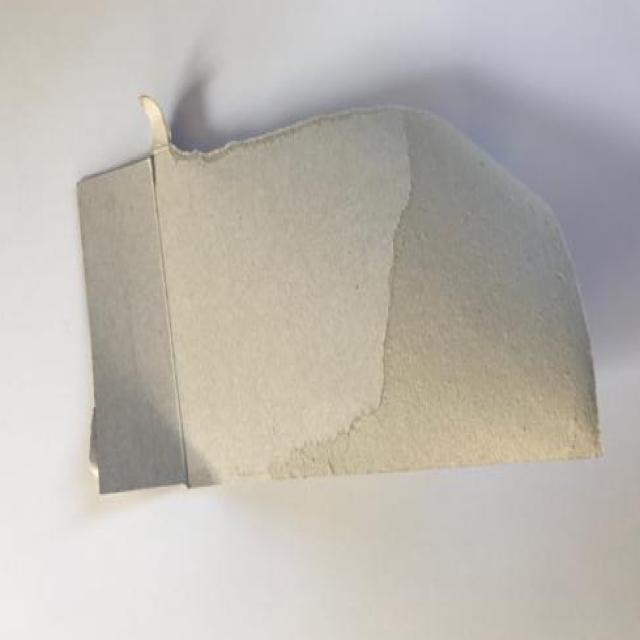kertas: (75, 96, 604, 496)
